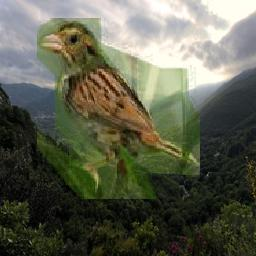Sparrow: (38, 19, 201, 200)
